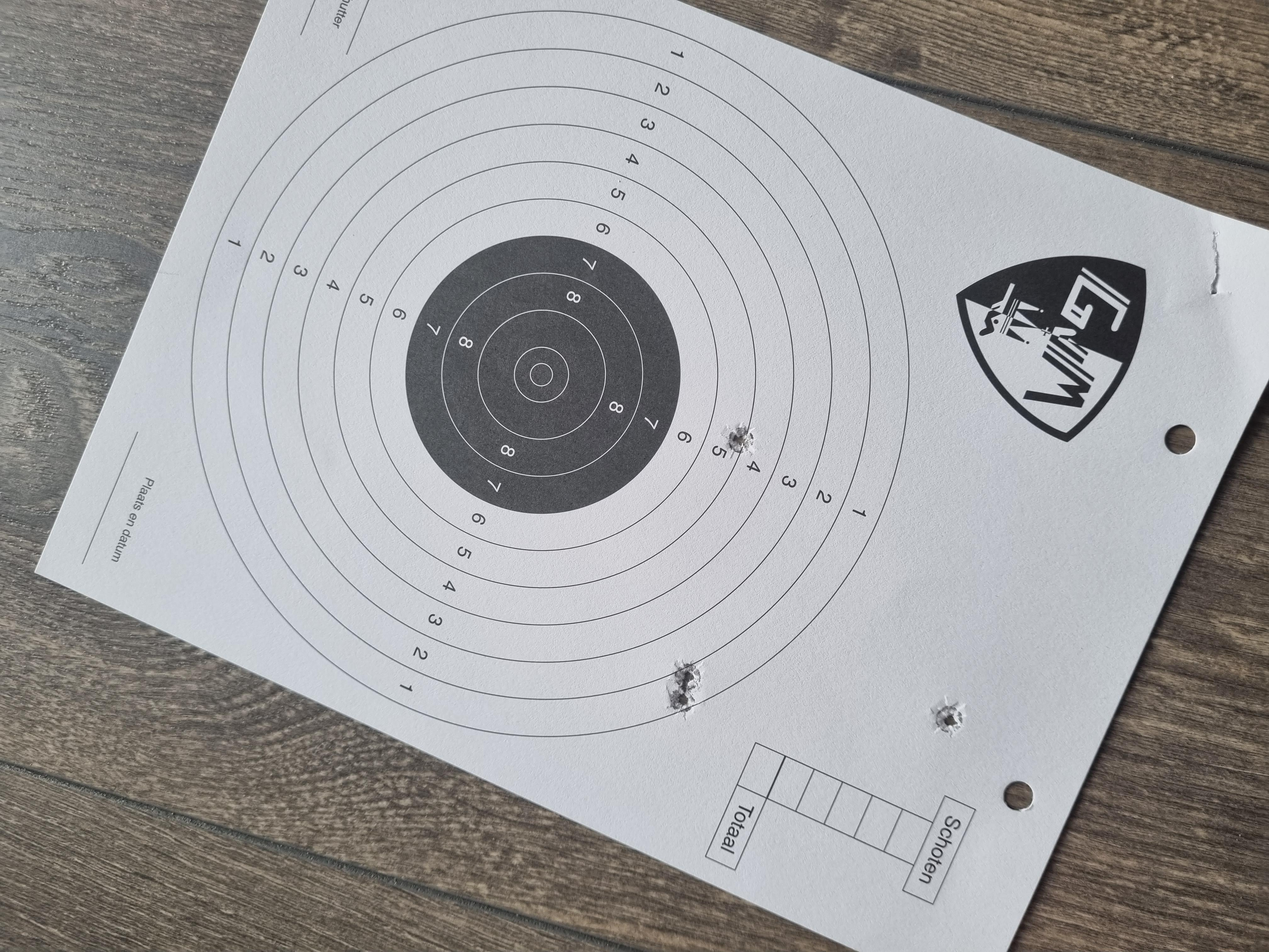hole: (288, 698, 341, 725), (310, 500, 355, 522), (657, 544, 702, 566), (347, 505, 391, 526)
